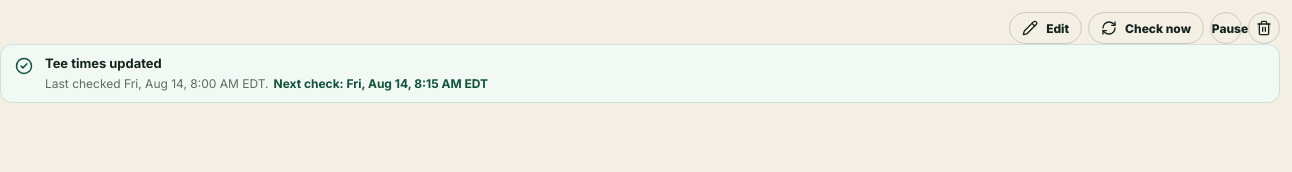
Test case: SearchStatusActions › queues an immediate availability check
Step 1. Click the button "Check now" → (1146, 28), box [1088,12,1204,44]
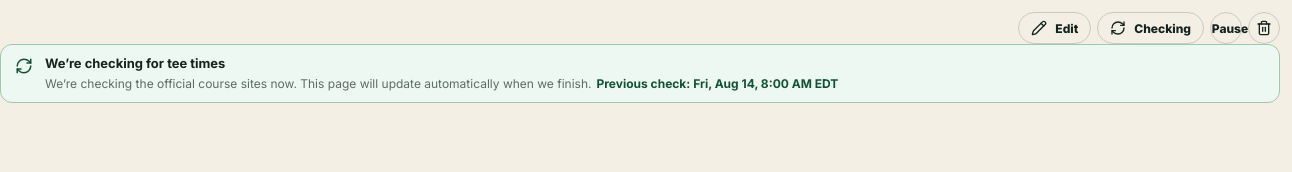
Result: the button "Checking" is shown at [1097,12,1204,44]
Result: the text "We’re checking for tee times" is shown at [45,55,225,71]
Result: the text "update automatically when we finish" is shown at [45,76,592,91]
